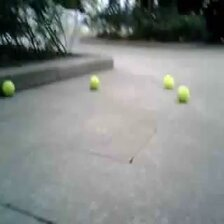tennis: (2, 80, 15, 95), (88, 75, 101, 88), (177, 88, 190, 101), (161, 74, 173, 88)
